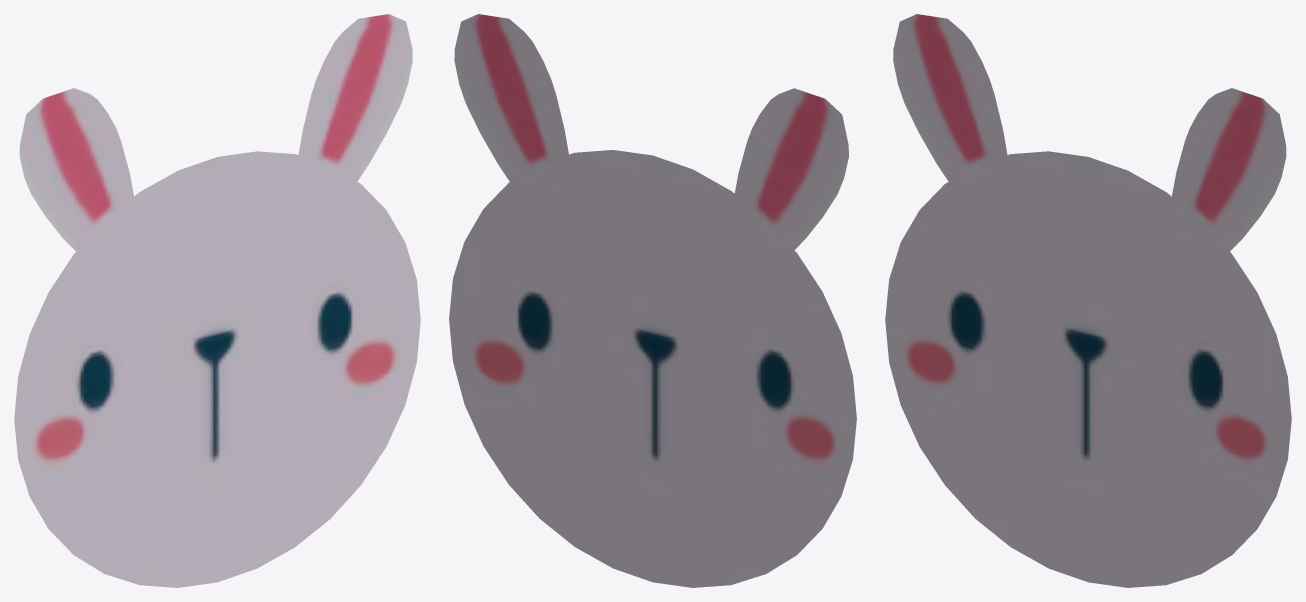
File: Rabbit.fbx
3 renders of one model, left to right at view 1: azimuth 30°, elevation 25°; view 2: azimuth 150°, elevation 25°; view 3: azimuth 330°, elevation 25°, orthographic.
Parts seen in each view (by area): view 1: Rabbit; view 2: Rabbit; view 3: Rabbit.
Boxes of the visible parts, x1,y1,x2,y2 form: Rabbit: (14,14,420,587); Rabbit: (449,14,856,587); Rabbit: (885,14,1291,587).
Bounding box in the file's own units: 200 × 248 × 1.09.
